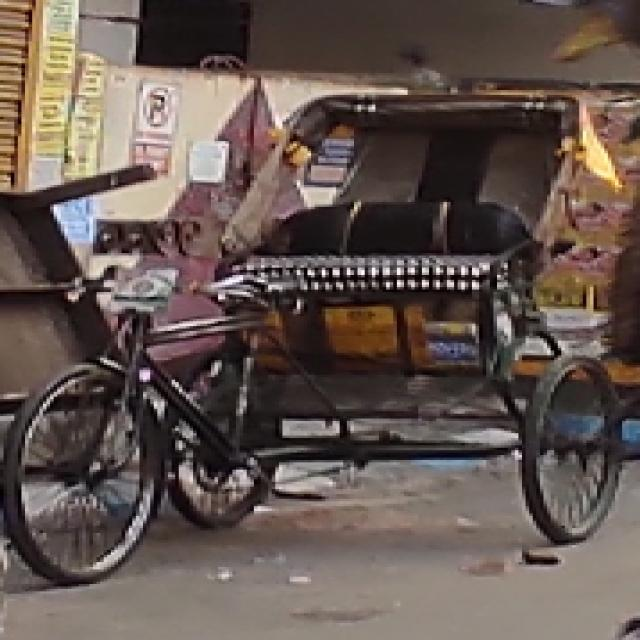rickshaw: (7, 90, 633, 591)
